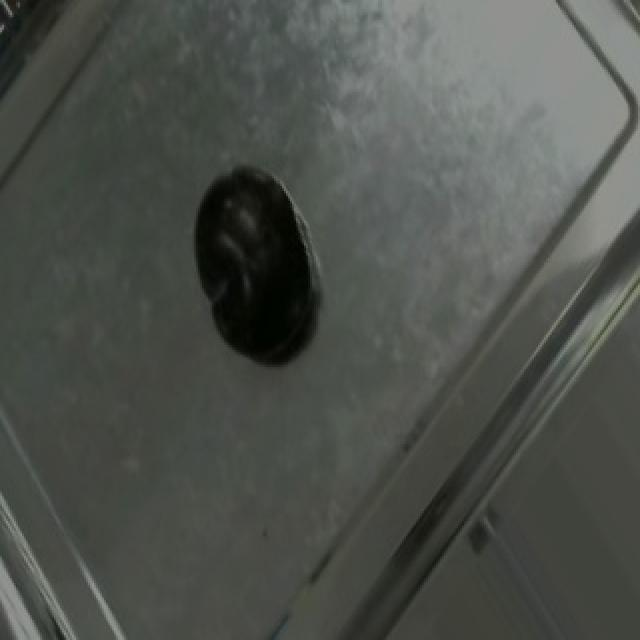Fruit: (172, 158, 328, 374)
